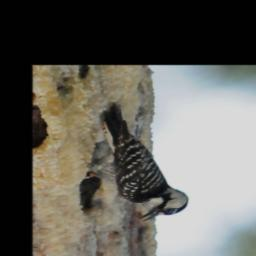Woodpecker: (87, 102, 191, 222)
